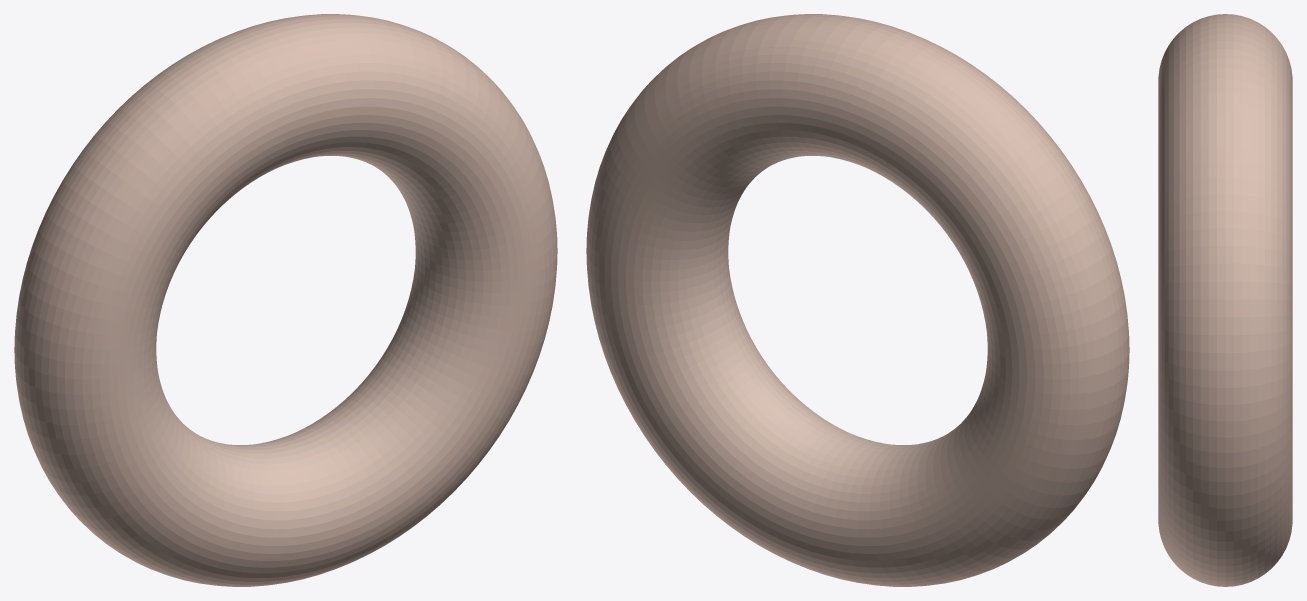
The picture shows the model from 3 angles, left to right: view 1: azimuth 30°, elevation 25°; view 2: azimuth 150°, elevation 25°; view 3: azimuth 270°, elevation 25°; orthographic projection. The views are drawn at different scales.
Parts seen in each view (by area): view 1: world; view 2: world; view 3: world.
Boxes of the visible parts, x1,y1,x2,y2 form: world: [14, 14, 557, 586]; world: [586, 14, 1129, 586]; world: [1158, 14, 1292, 586].
Size of the model in its own units: 27.87 by 27.87 by 6.52.
